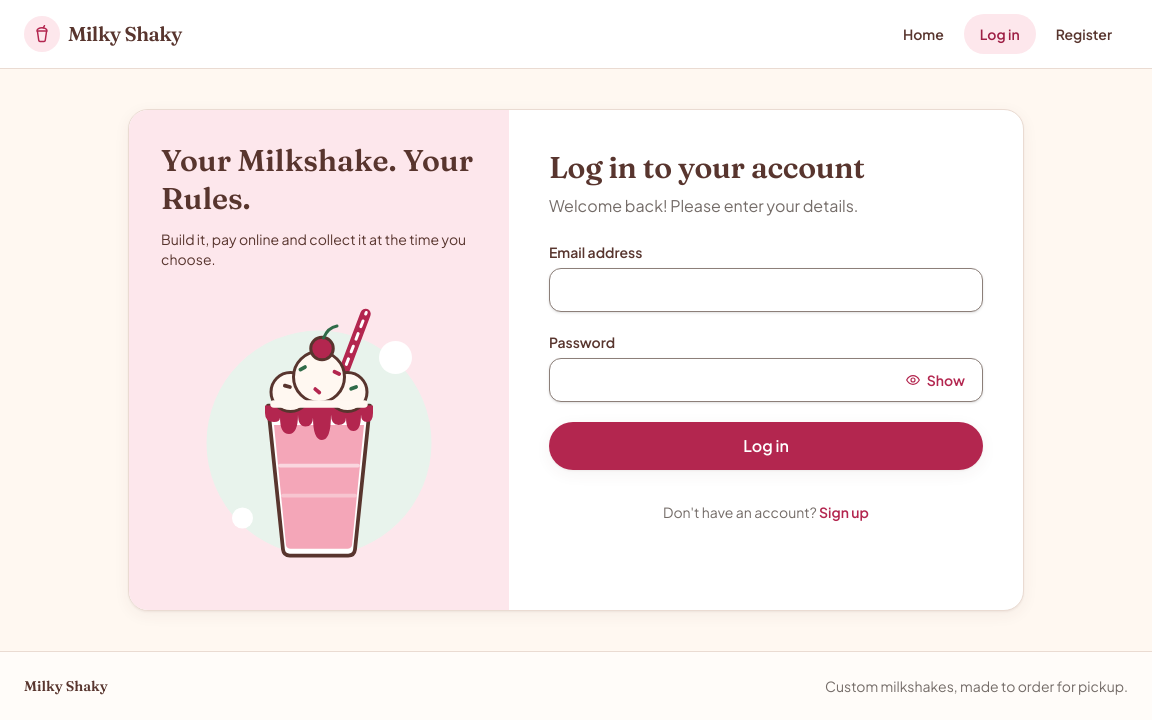
login › signs in with the anti-forgery token and returns to the requested page
The width and height of the screenshot is (1152, 720).
Expected: the heading "Log in to your account" is shown, [549,149,865,186]
Type "thandi@example.test" into the field labelled "Email address" at (766, 290), box [549,268,983,312]
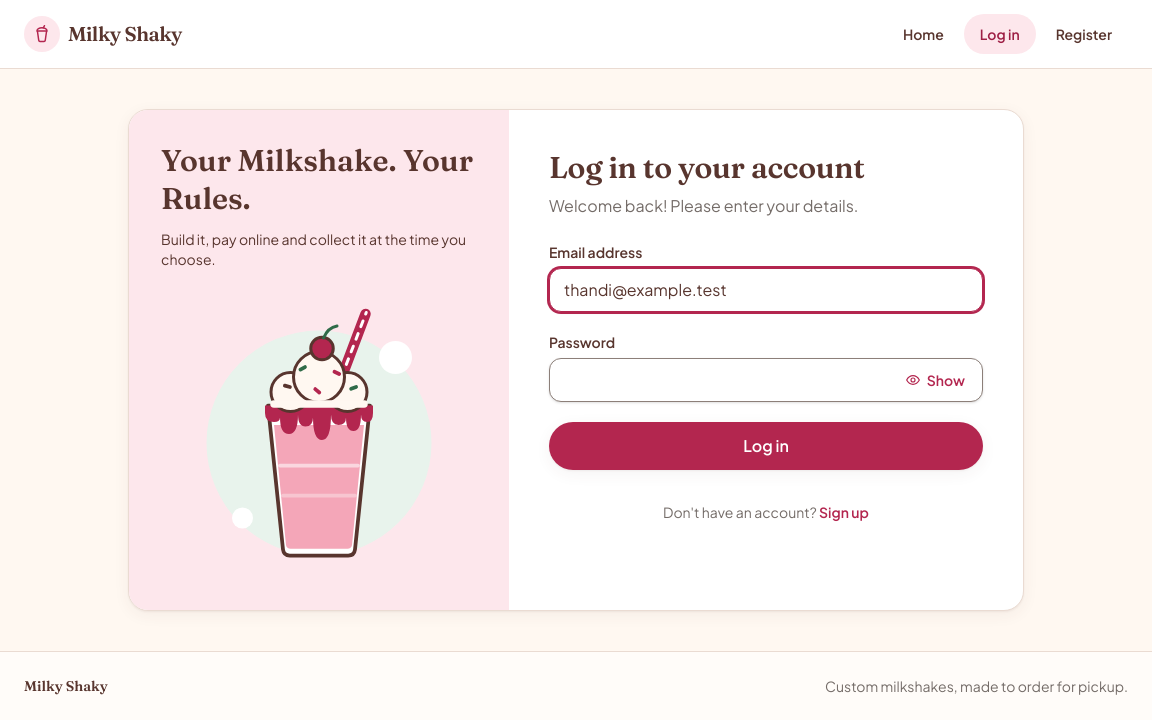
Type "Milkshake1Test" into the password field labelled "Password" at (766, 380), box [549,358,983,402]
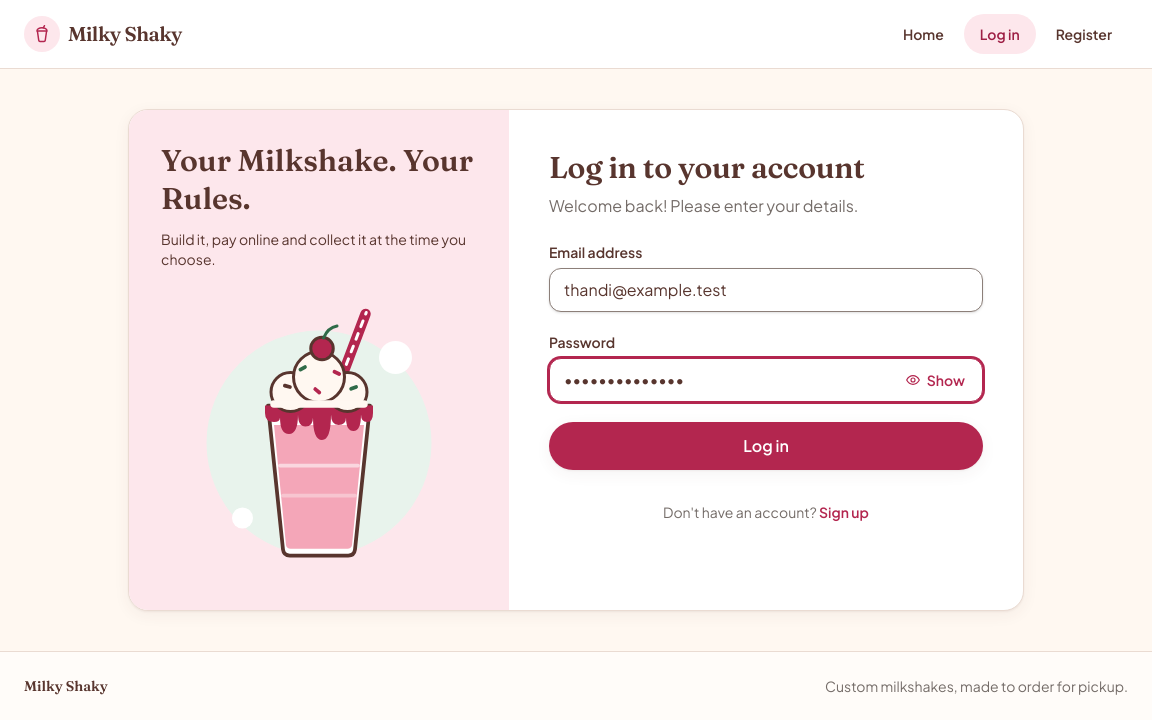
Click the button "Log in" at (766, 446), box [549,422,983,470]
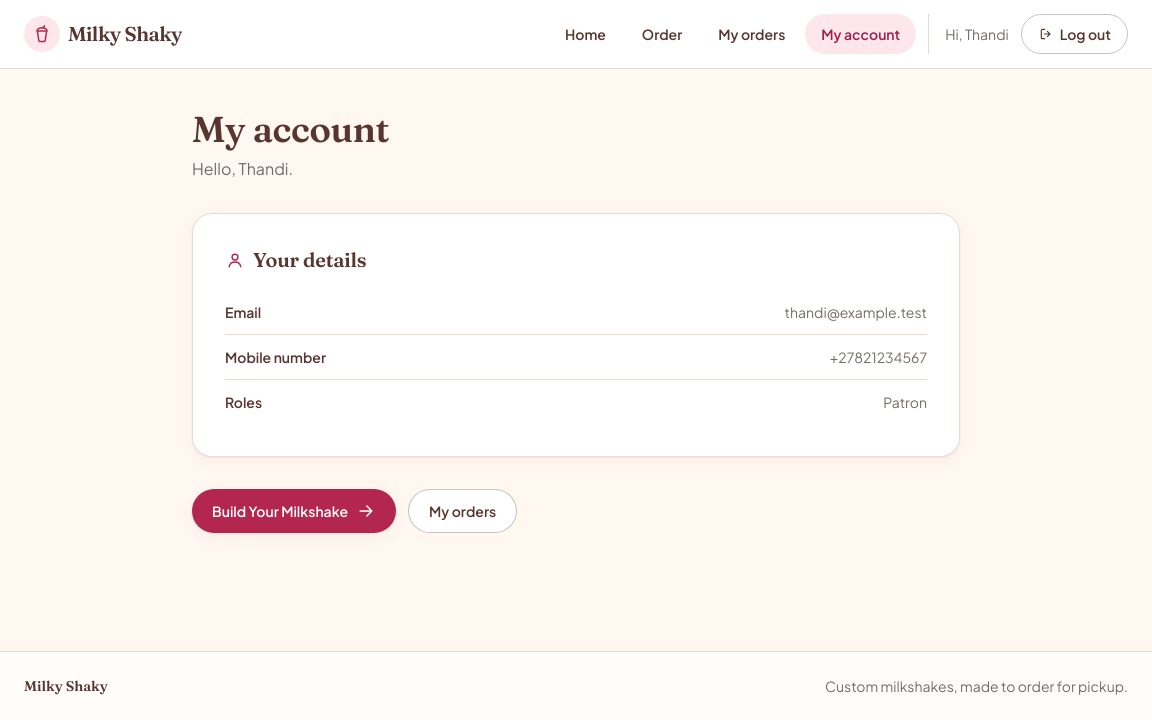
Now the heading "My account" is shown, box [192,109,389,149]
